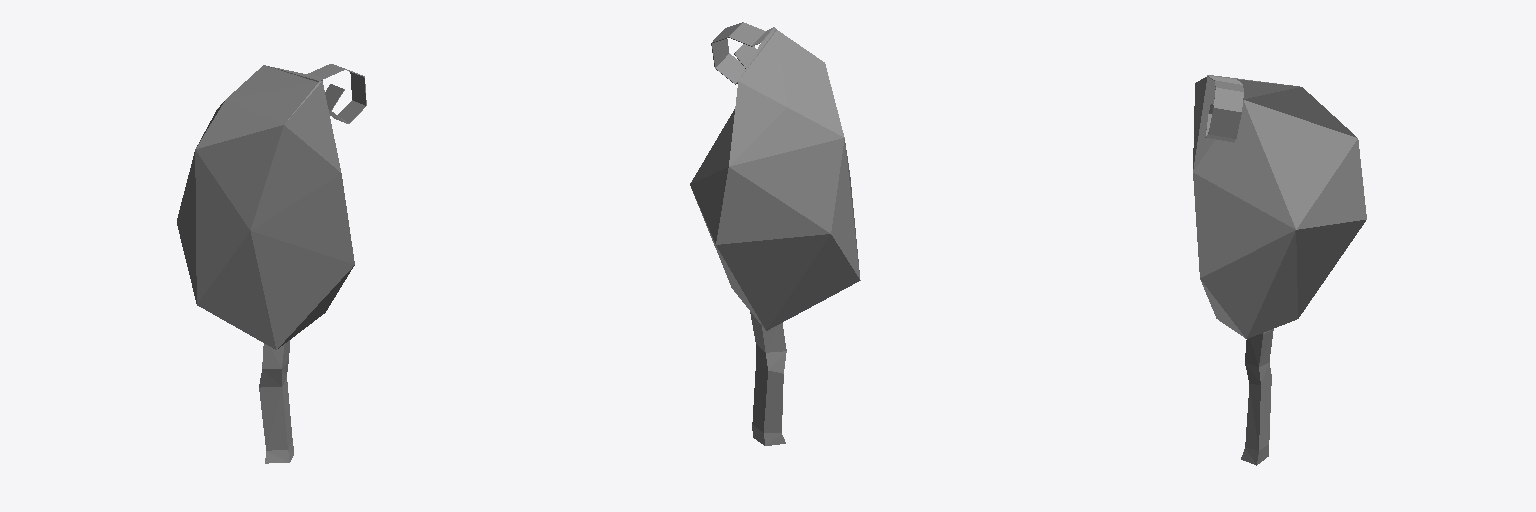
File: tree_schmalzlocke_yellow.obj
3 renders of one model, left to right at view 1: azimuth 30°, elevation 25°; view 2: azimuth 150°, elevation 25°; view 3: azimuth 270°, elevation 25°, orthographic.
Parts seen in each view (by area): view 1: SchmalzlockeUV; view 2: SchmalzlockeUV; view 3: SchmalzlockeUV.
Part boxes in pixels (x1,y1,x2,y2): SchmalzlockeUV: (177,64,366,463); SchmalzlockeUV: (690,22,860,445); SchmalzlockeUV: (1193,75,1366,465).
Bounding box in the file's own units: 75.09 × 186 × 74.63.